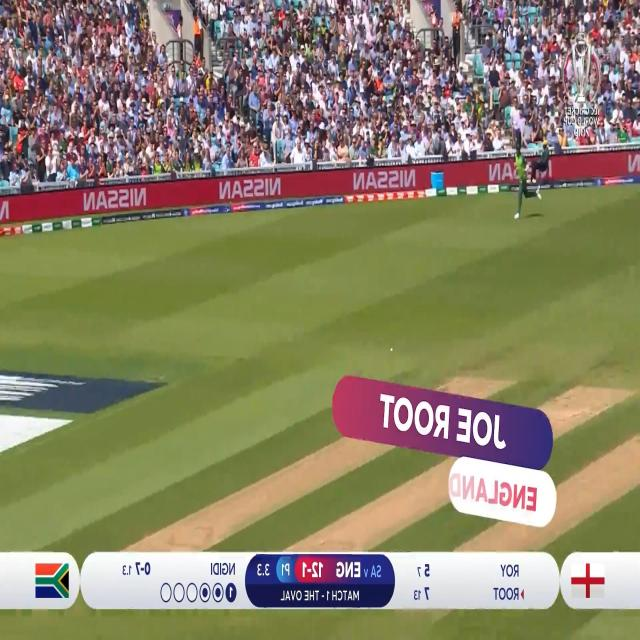ball: (384, 344, 394, 359)
